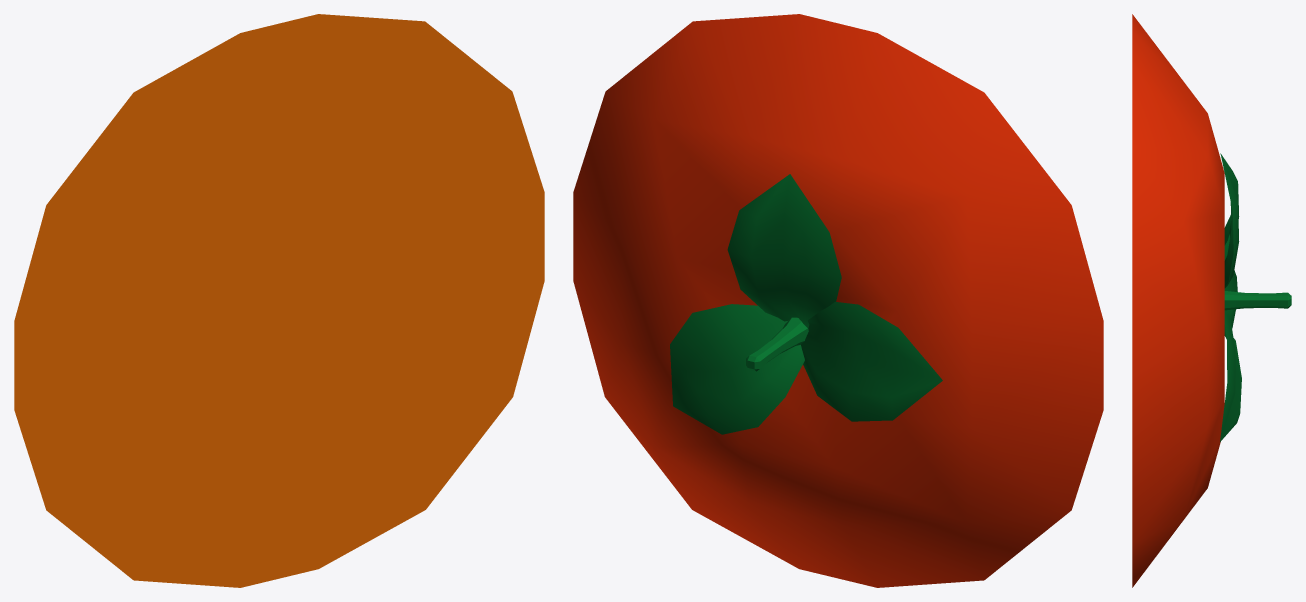
The model's file is mesh_tomato_slice_stage01.fbx.
The picture shows the model from 3 angles, left to right: view 1: azimuth 30°, elevation 25°; view 2: azimuth 150°, elevation 25°; view 3: azimuth 270°, elevation 25°; orthographic projection. The views are drawn at different scales.
Parts seen in each view (by area): view 1: mesh_tomato_slice_stage01; view 2: mesh_tomato_slice_stage01; view 3: mesh_tomato_slice_stage01.
Part boxes in pixels (box(x1,y1,x2,y2)): mesh_tomato_slice_stage01: box(14, 14, 544, 587); mesh_tomato_slice_stage01: box(573, 14, 1103, 587); mesh_tomato_slice_stage01: box(1132, 14, 1291, 587).
Size of the model in its own units: 0.147 by 0.147 by 0.042.
